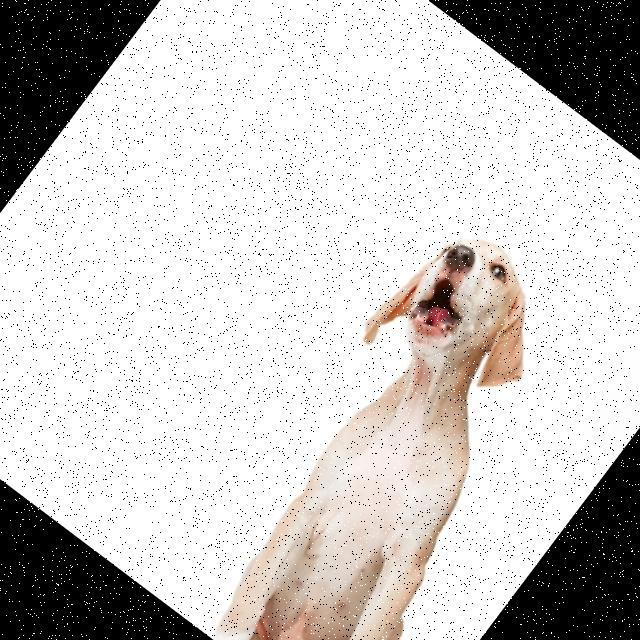Dog: (157, 209, 631, 640)
